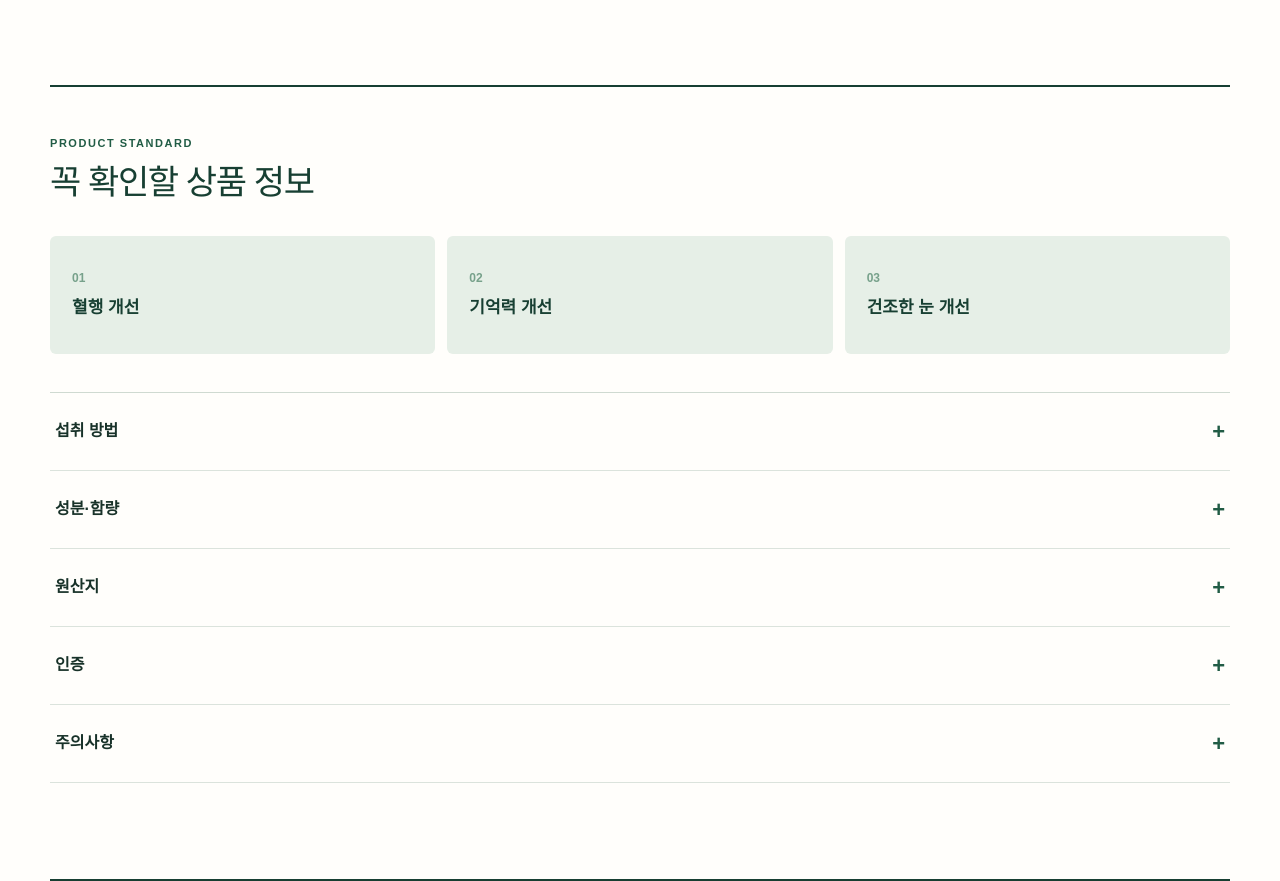
it: limits core benefits and exposes controlled information regions with a semantic ingredient table
This screenshot has width=1280, height=881.
(page scrolled)
Expected: the list named "핵심 기능성" shows "혈행 개선", [72,298,139,317]
Expected: the list named "핵심 기능성" does not show "피로 개선", [50,236,1230,354]
Click the button "섭취 방법 +".
click(87, 431)  # box [50,393,1230,470]
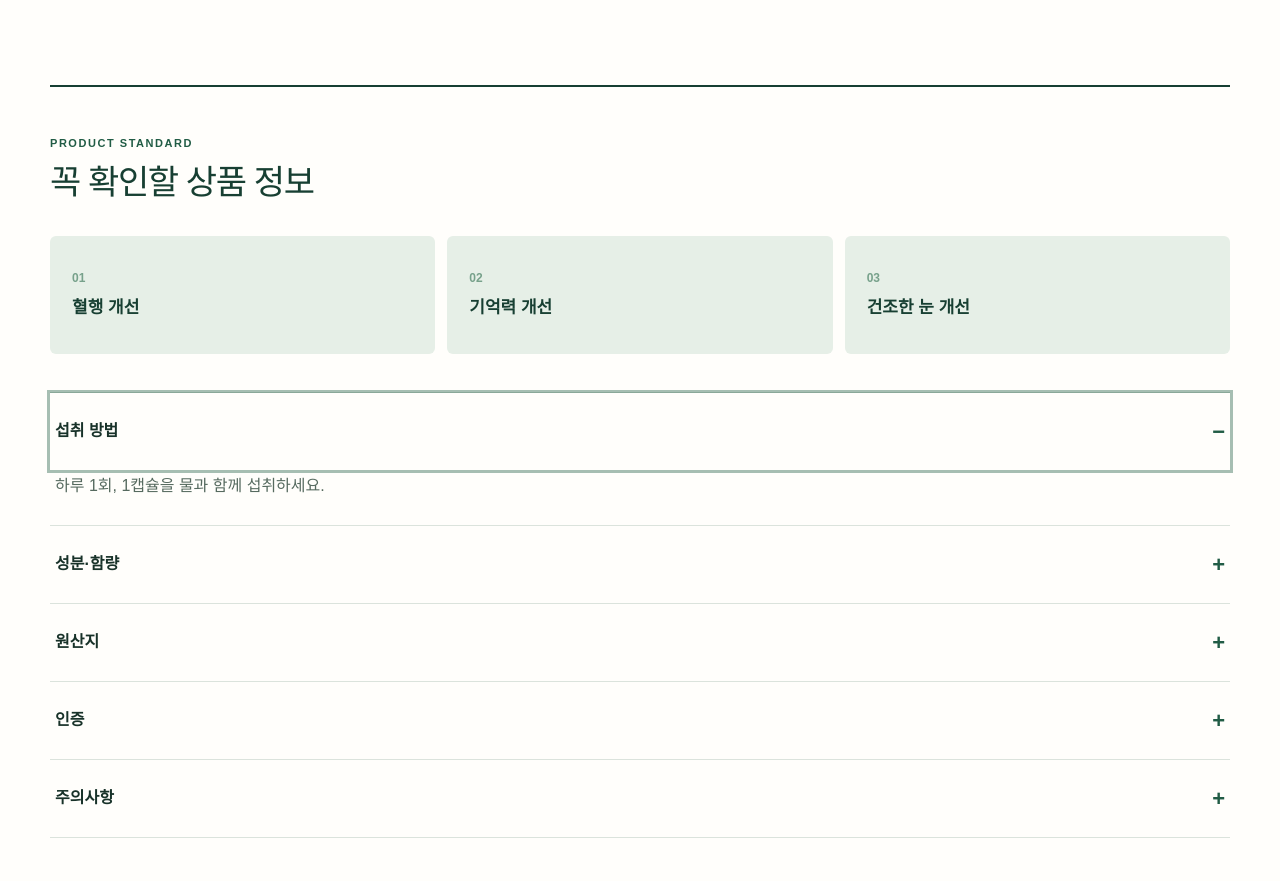
Expected: the button "섭취 방법 −" is expanded, [50,393,1230,470]
Expected: the element named "섭취 방법" shows "하루 1회, 1캡슐", [55,477,325,494]
Click the button "성분·함량 +".
click(87, 564)  # box [50,526,1230,603]
(page scrolled)
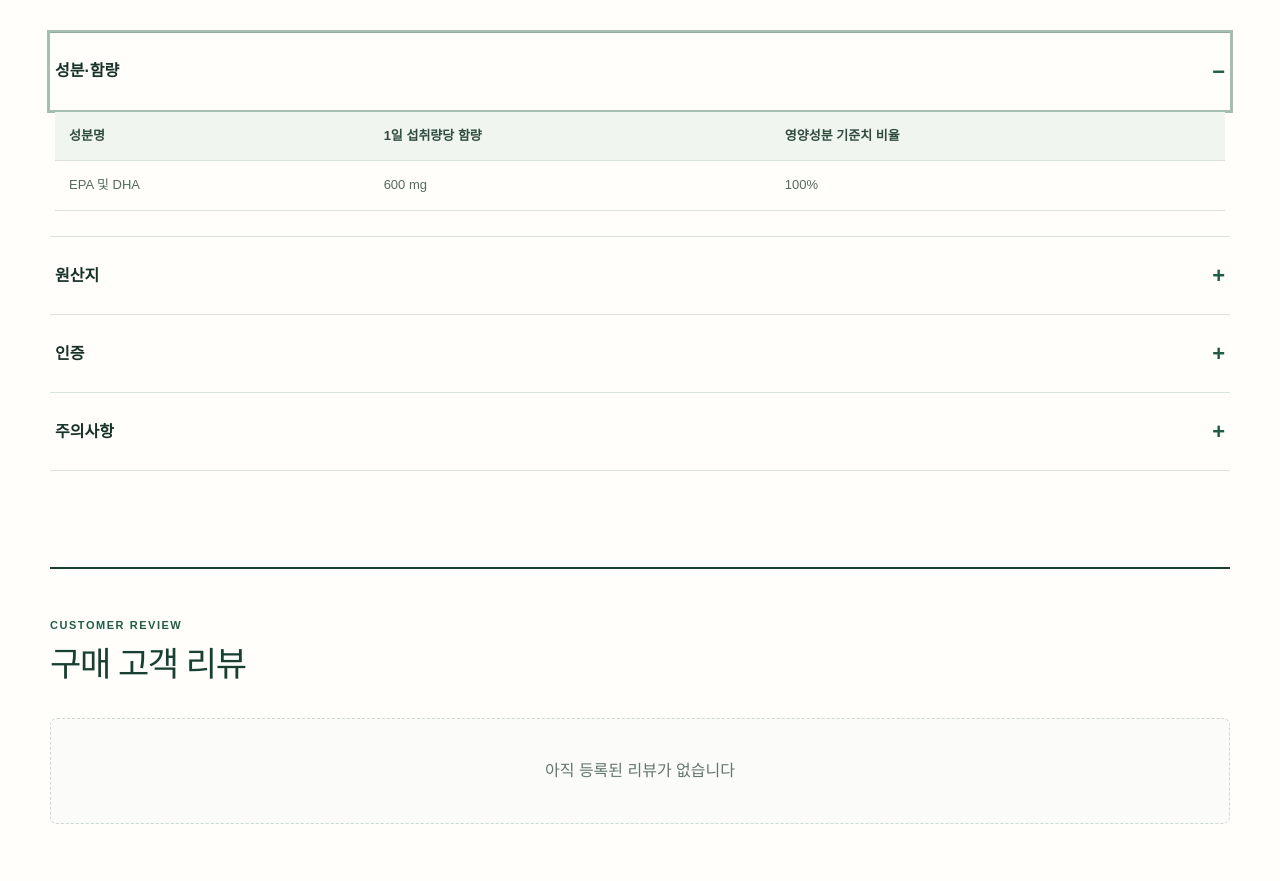
Expected: the column heading "성분명" is shown, [55,112,370,161]
Expected: the column heading "1일 섭취량당 함량" is shown, [370,112,771,161]
Expected: the column heading "영양성분 기준치 비율" is shown, [771,112,1225,161]
